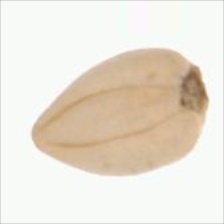L5: (41, 83, 182, 149), (180, 62, 210, 116), (29, 111, 43, 160)
L6: (30, 46, 210, 177)
